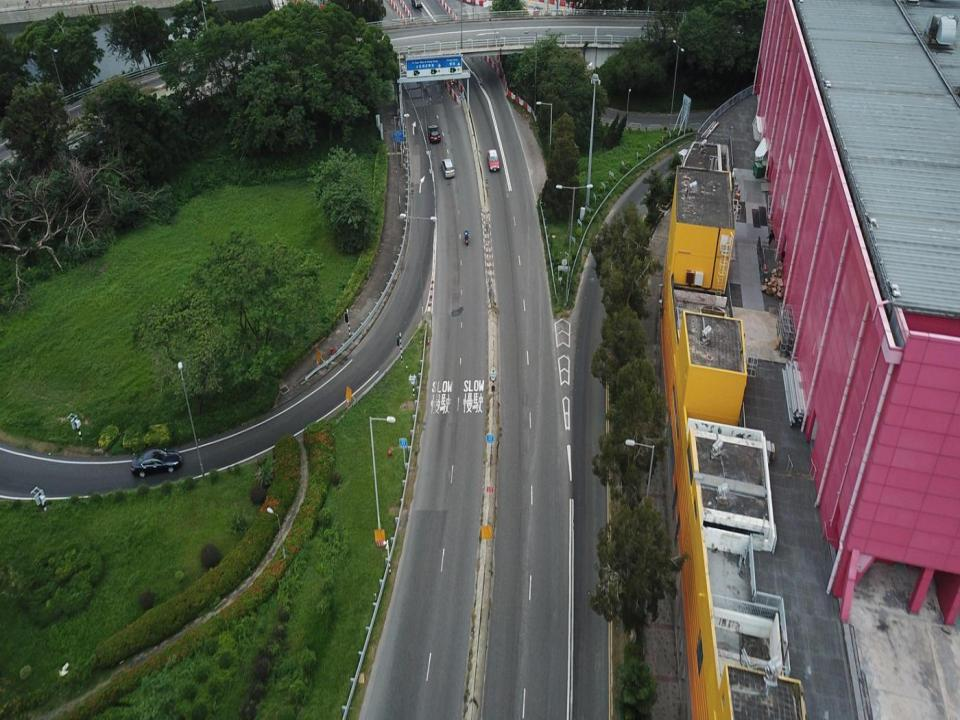car: (131, 449, 182, 475), (441, 156, 454, 180), (487, 149, 500, 173), (427, 124, 440, 144)
